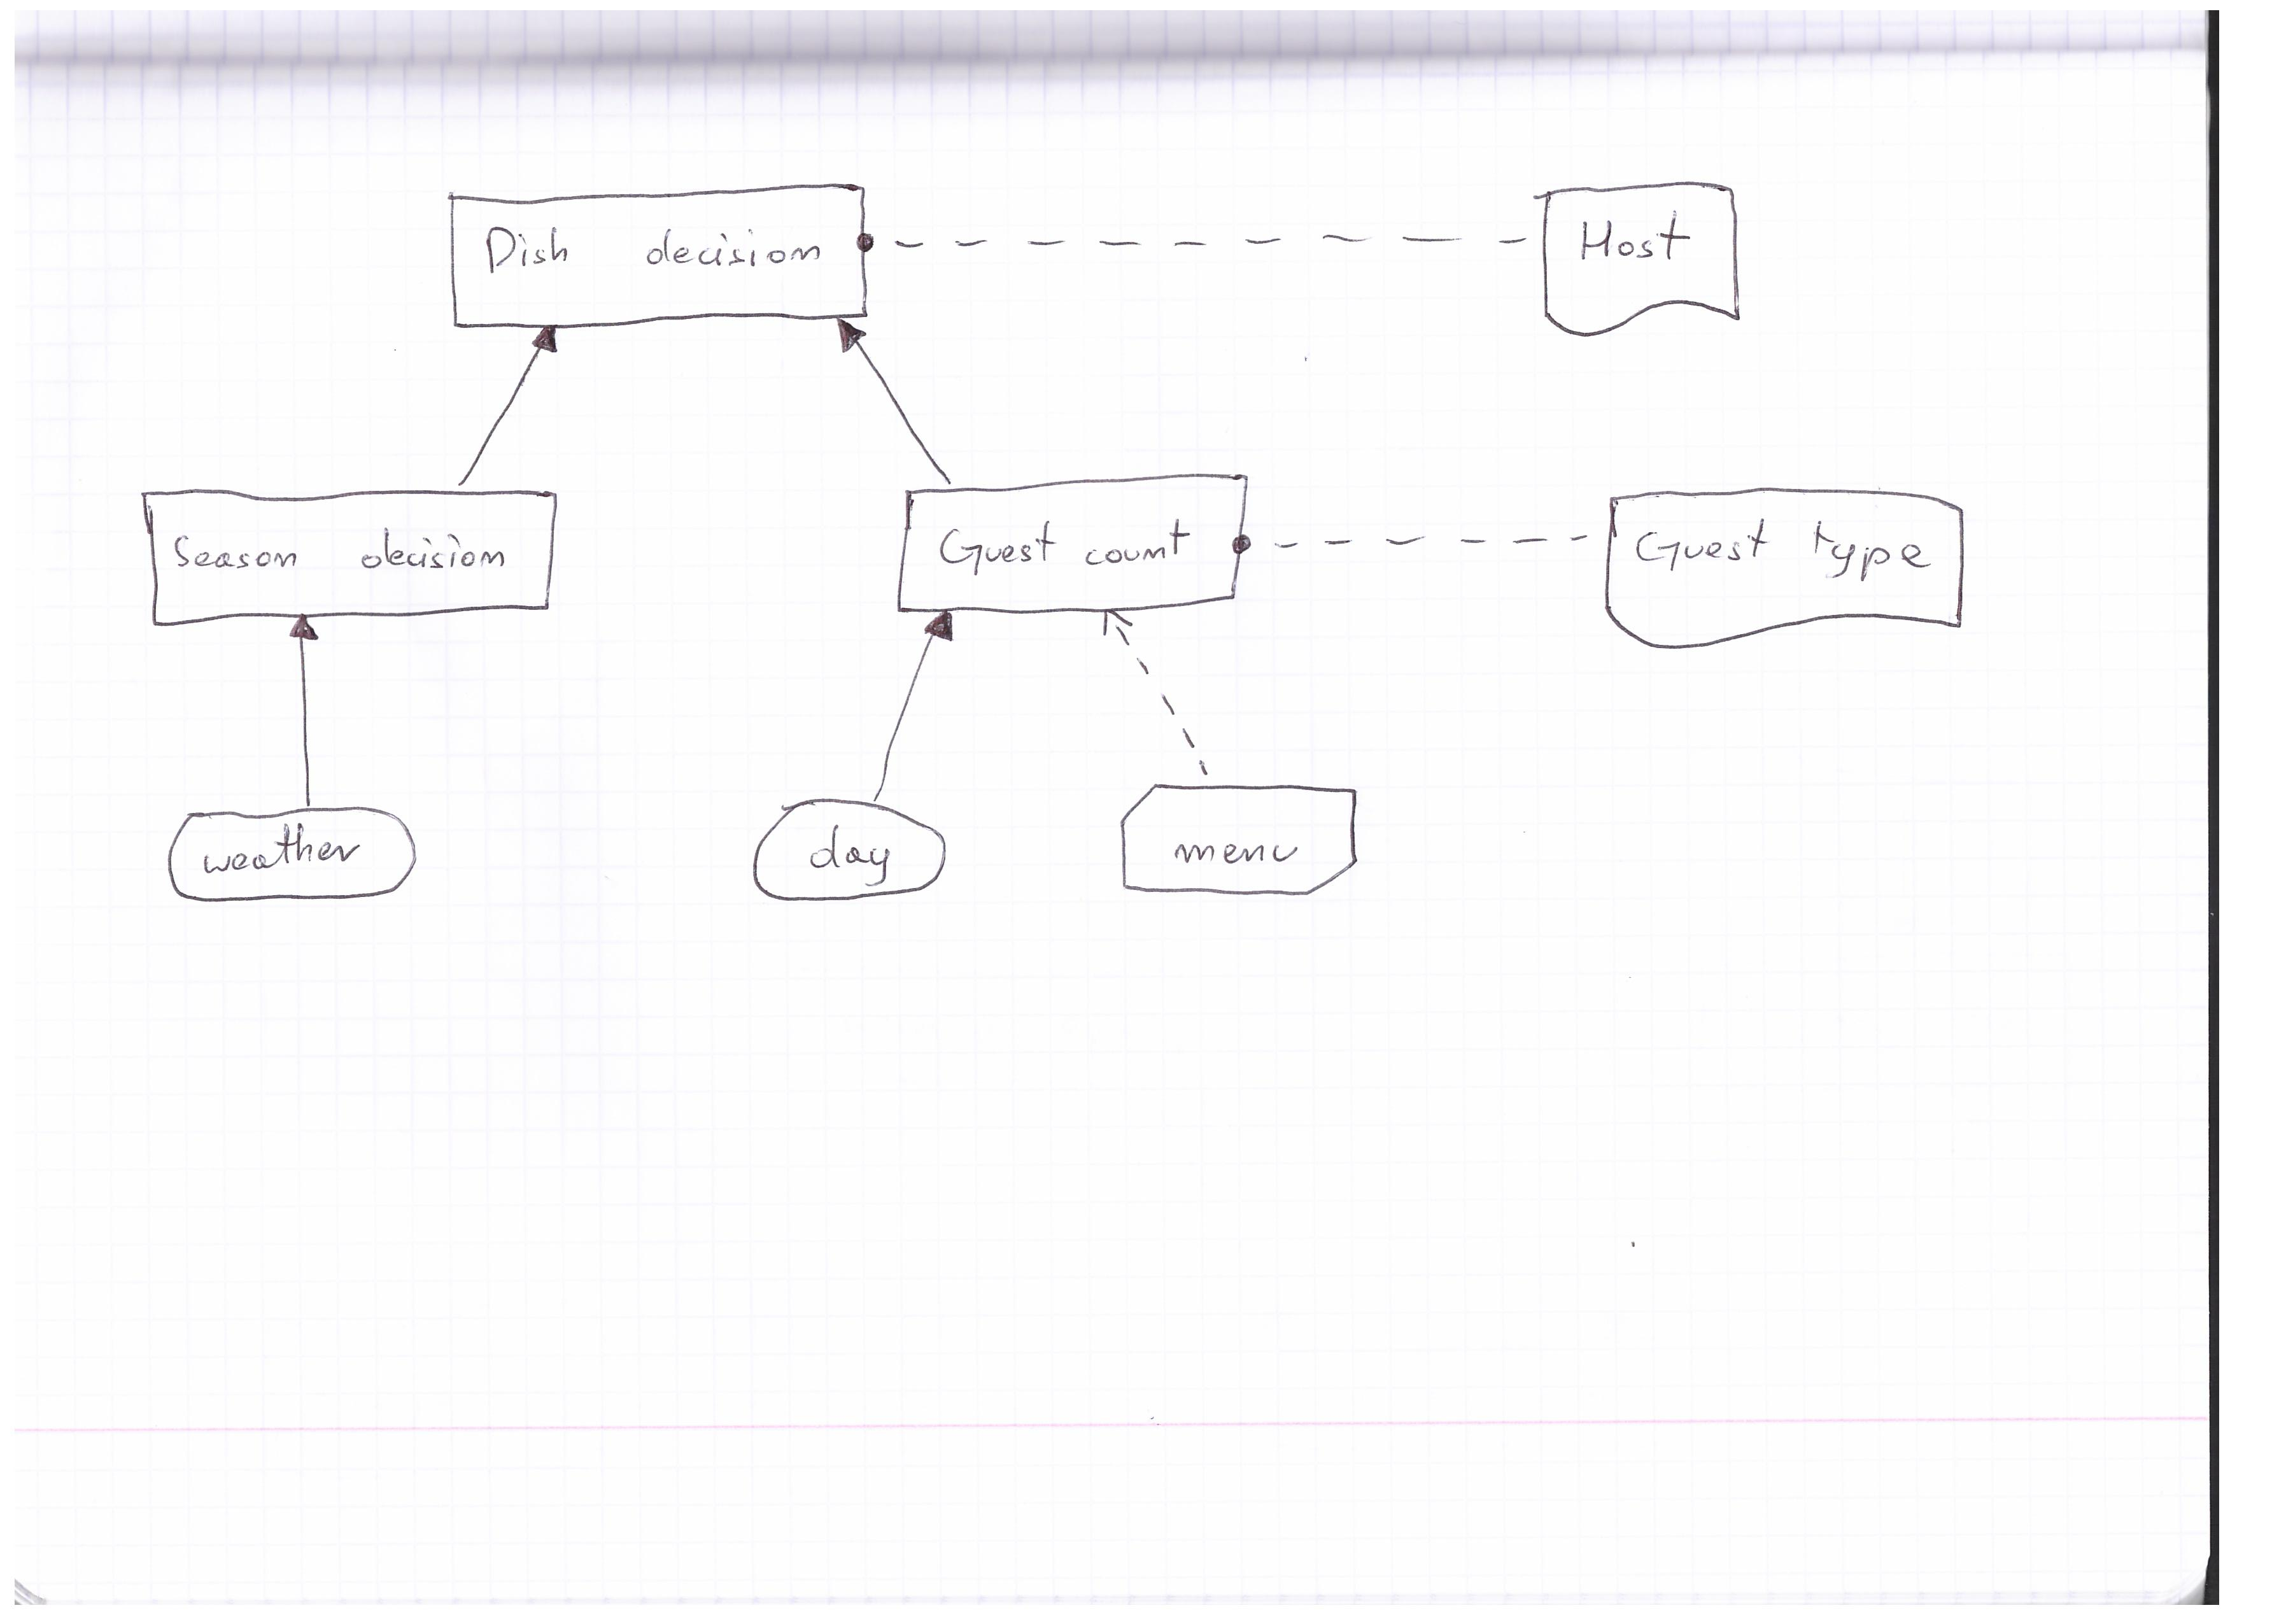arrow_authority_requirement: (849, 213, 1536, 269), (1221, 518, 1603, 568)
arrow_information_requirement: (819, 308, 965, 487), (852, 608, 959, 801), (453, 318, 575, 487), (278, 606, 327, 805)
arrow_knowledge_requirement: (1086, 605, 1219, 782)
node_decision: (135, 487, 573, 633), (439, 183, 872, 330), (882, 469, 1258, 620)
node_input_data: (158, 801, 446, 917), (734, 791, 970, 917)
node_knowledge_model: (1114, 779, 1379, 912)
node_knowledge_source: (1604, 483, 1975, 659), (1527, 183, 1768, 350)
text: (474, 214, 836, 288), (167, 520, 529, 592), (1631, 513, 1942, 592), (931, 510, 1200, 582), (192, 821, 380, 886), (1569, 207, 1696, 279), (791, 817, 905, 891), (1163, 824, 1309, 877)
